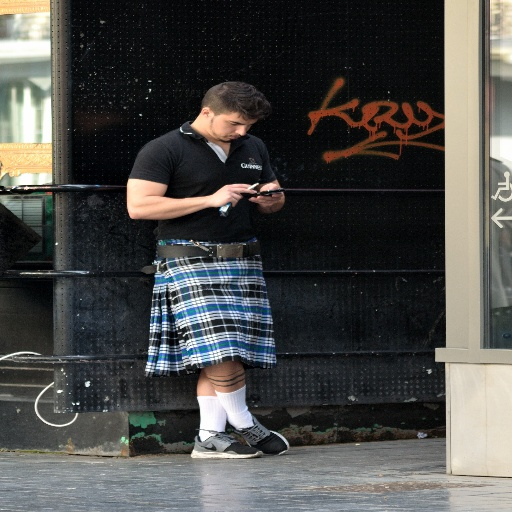hand: (248, 179, 285, 210)
